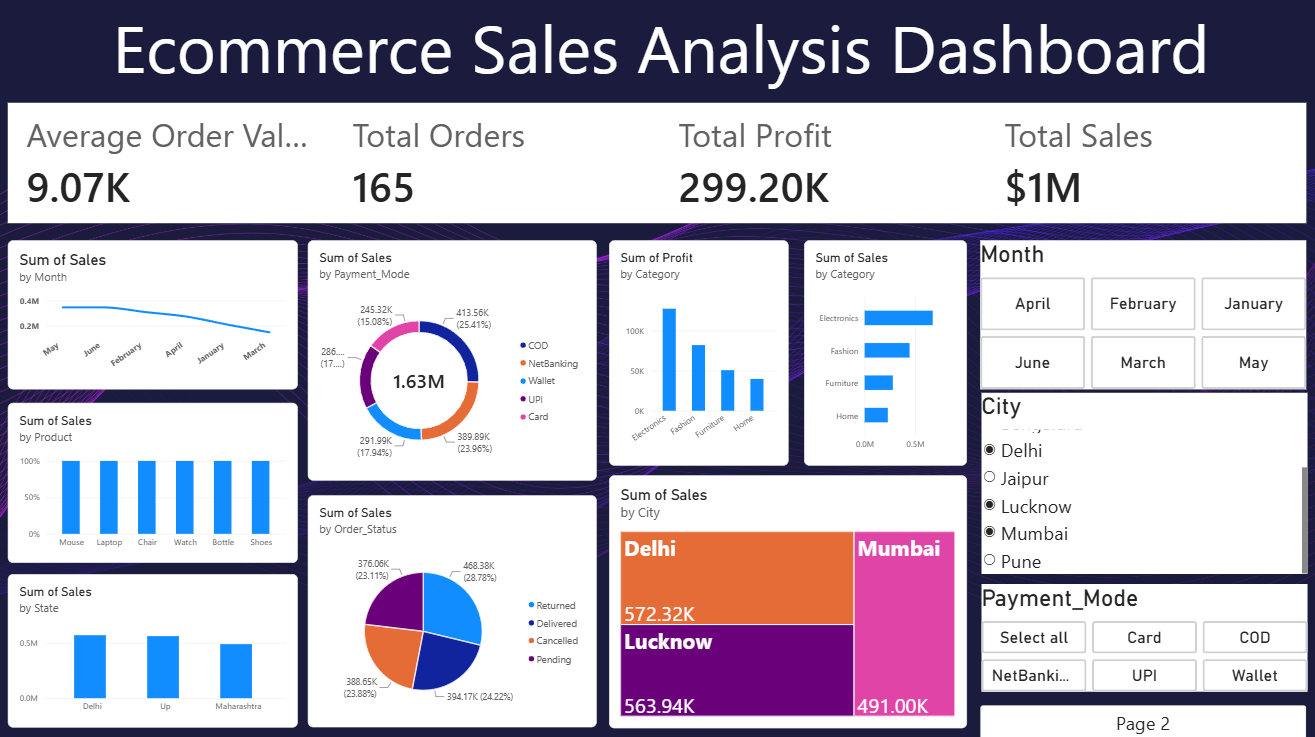

Layout of this report page (visuals, bound fields, positions):
{"tool":"powerbi","page":{"name":"Page 1","canvas":[1920,1080],"ordinal":0},"visuals":[{"type":"cardVisual","fields":{"Data":["DAX Measure.Average Order Value","DAX Measure.Total Orders","DAX Measure.Total Profit","DAX Measure.Total Sales","DAX Measure.Average Order Value"]},"box":[20,158,1880,174],"z":0},{"type":"textbox","box":[10,10,1910,147.5],"z":1000},{"type":"lineChart","fields":{"Category":["public orders.Month"],"Y":["Sum(public orders.Sales)"]},"box":[20,356,420,216],"z":2000},{"type":"barChart","fields":{"Category":["public orders.Category"],"Y":["Sum(public orders.Sales)"]},"box":[1172,356,236,326],"z":3000},{"type":"hundredPercentStackedColumnChart","fields":{"Category":["public orders.Product"],"Y":["Sum(public orders.Sales)"]},"box":[20,592,420,232],"z":4000},{"type":"treemap","fields":{"Group":["public orders.City"],"Values":["Sum(public orders.Sales)"]},"box":[890,696,518,366],"z":5000},{"type":"donutChart","fields":{"Category":["public orders.Payment_Mode"],"Y":["Sum(public orders.Sales)"]},"box":[454,356,418,348],"z":6000},{"type":"pieChart","fields":{"Category":["public orders.Order_Status"],"Y":["Sum(public orders.Sales)"]},"box":[454,726,418,336],"z":7000},{"type":"columnChart","fields":{"Category":["public orders.State"],"Y":["Sum(public orders.Sales)"]},"box":[20,840,420,222],"z":8000},{"type":"columnChart","fields":{"Category":["public orders.Category"],"Y":["Sum(public orders.Profit)"]},"box":[890,356,260,326],"z":9000},{"type":"advancedSlicerVisual","fields":{"Values":["public orders.Month"]},"box":[1428,356,472,216],"z":10000},{"type":"listSlicer","fields":{"Values":["public orders.City"]},"box":[1429.6,577.3,472,262],"z":11000},{"type":"advancedSlicerVisual","fields":{"Values":["public orders.Payment_Mode"]},"box":[1429.6,854.2,472.3,155.6],"z":12000},{"type":"pageNavigator","box":[1427.8,1029.7,472.3,50.7],"z":13000}]}

Visuals, with their boxes in screenshot pixels (x1, y1, x2, y2), scaled from the page's 1920x1080 canvas onto the 1315x737 screenshot:
cardVisual - DAX Measure.Average Order Value x DAX Measure.Total Orders: <box>14,108,1301,227</box>
textbox: <box>7,7,1314,107</box>
lineChart - public orders.Month x Sum(public orders.Sales): <box>14,243,301,390</box>
barChart - public orders.Category x Sum(public orders.Sales): <box>803,243,964,465</box>
hundredPercentStackedColumnChart - public orders.Product x Sum(public orders.Sales): <box>14,404,301,562</box>
treemap - public orders.City x Sum(public orders.Sales): <box>610,475,964,725</box>
donutChart - public orders.Payment_Mode x Sum(public orders.Sales): <box>311,243,597,480</box>
pieChart - public orders.Order_Status x Sum(public orders.Sales): <box>311,495,597,725</box>
columnChart - public orders.State x Sum(public orders.Sales): <box>14,573,301,725</box>
columnChart - public orders.Category x Sum(public orders.Profit): <box>610,243,788,465</box>
advancedSlicerVisual - public orders.Month: <box>978,243,1301,390</box>
listSlicer - public orders.City: <box>979,394,1302,573</box>
advancedSlicerVisual - public orders.Payment_Mode: <box>979,583,1303,689</box>
pageNavigator: <box>978,703,1301,736</box>
